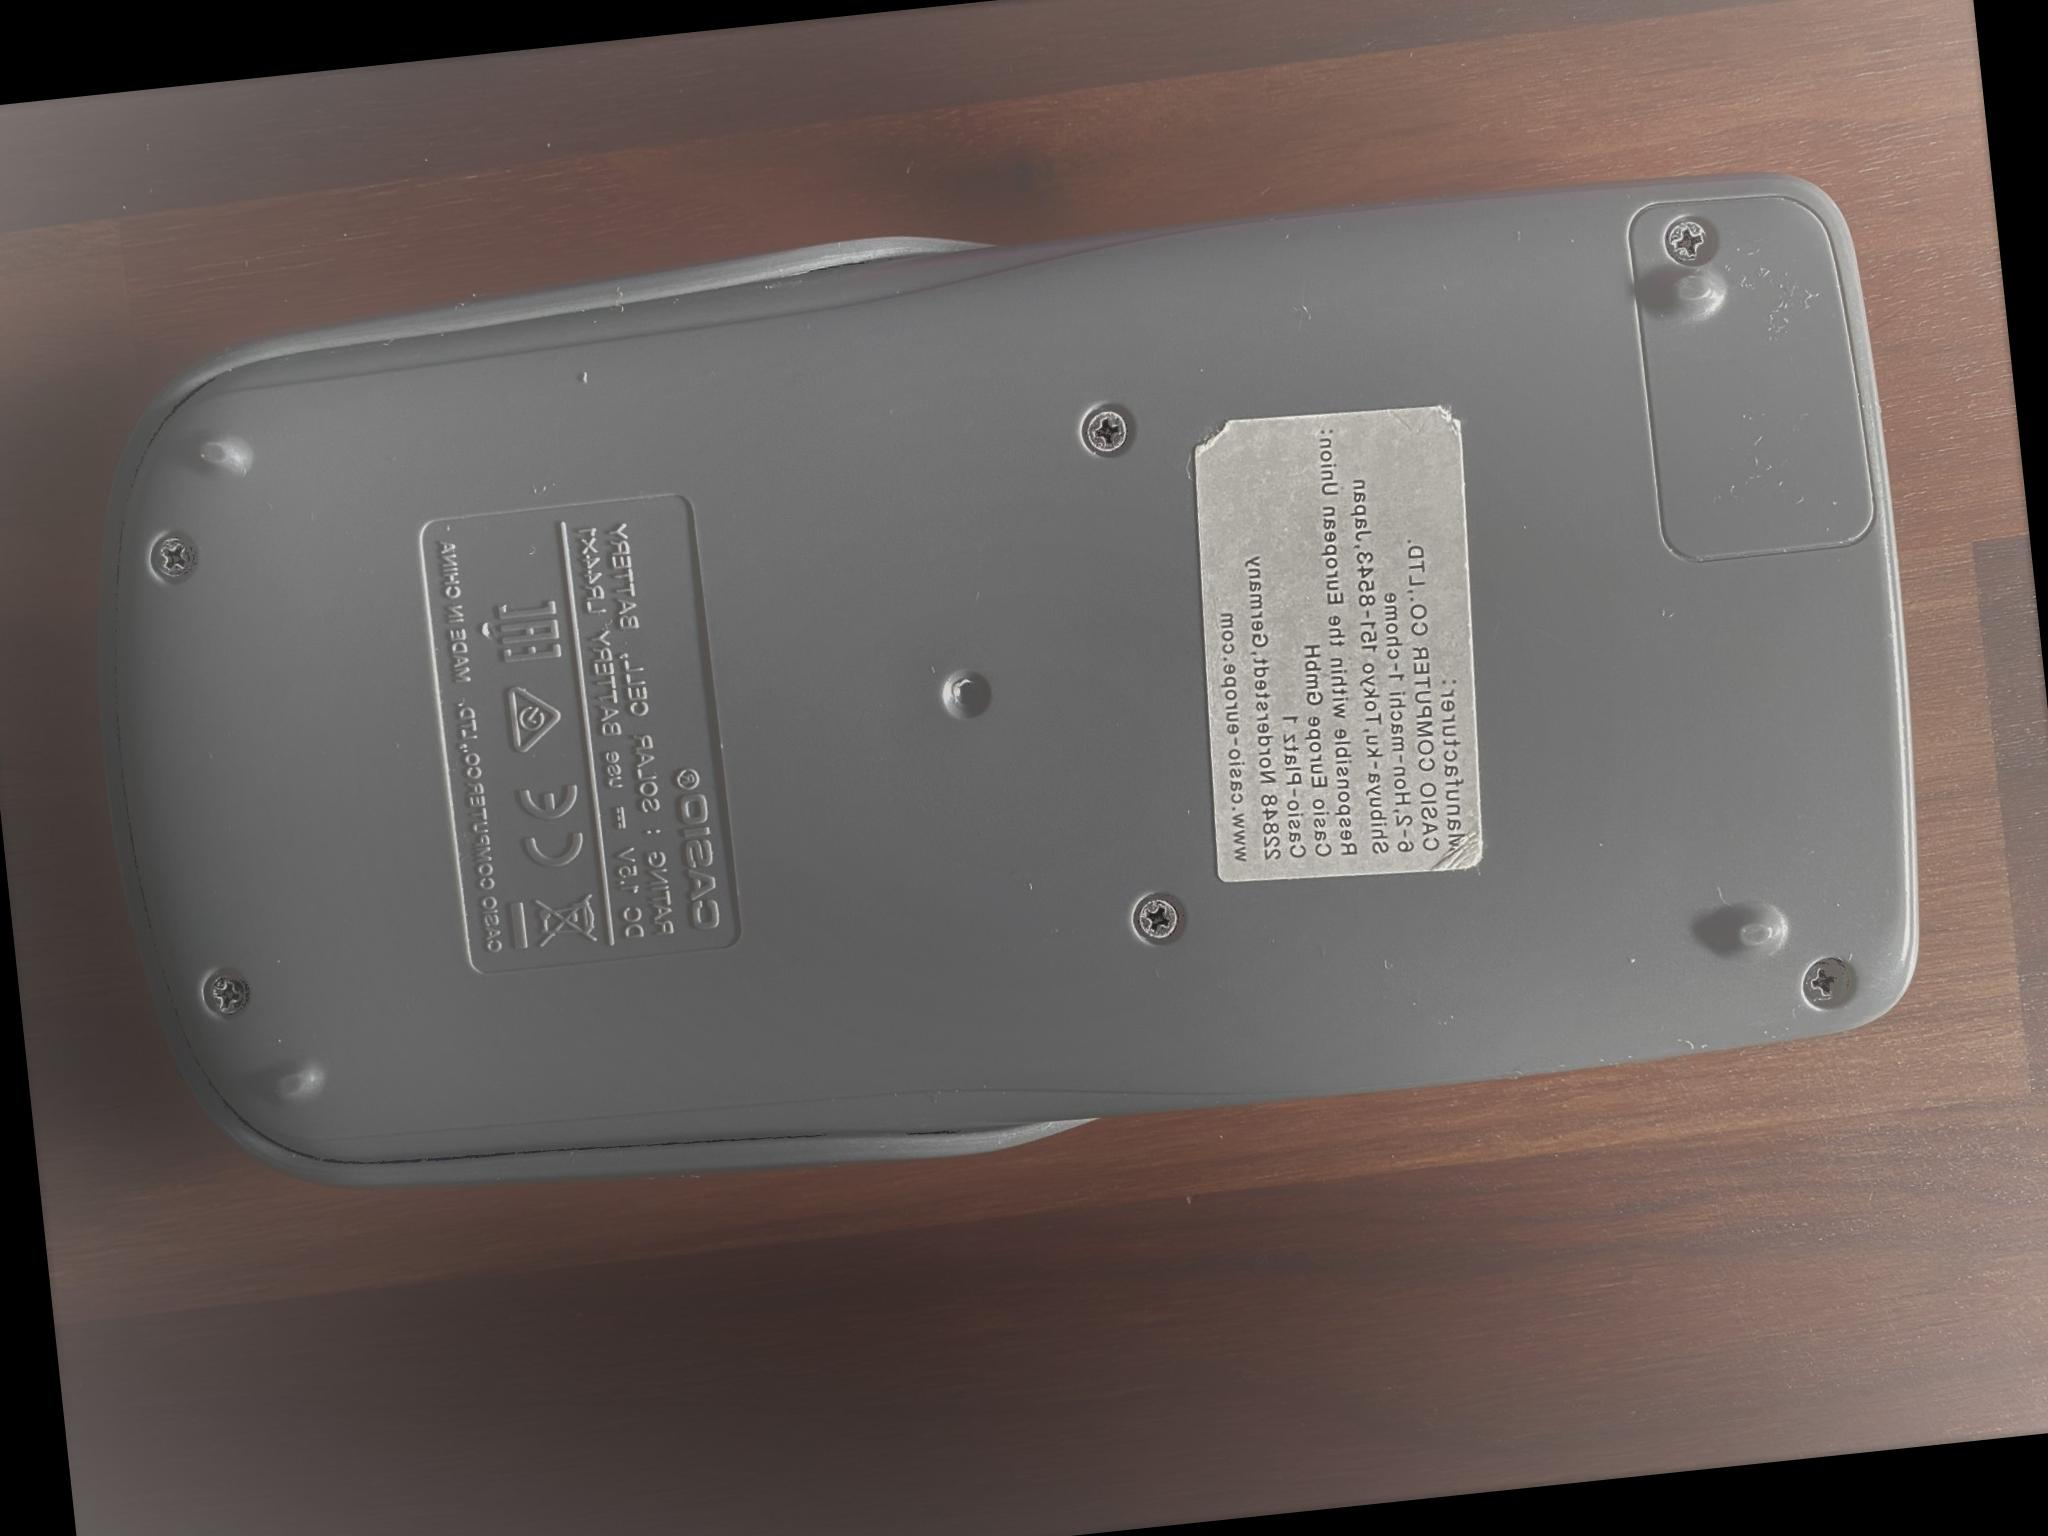PH: (1129, 892, 1184, 944), (1798, 955, 1851, 1007), (1664, 216, 1713, 266), (1079, 407, 1127, 457), (147, 532, 195, 578), (198, 971, 248, 1015)
